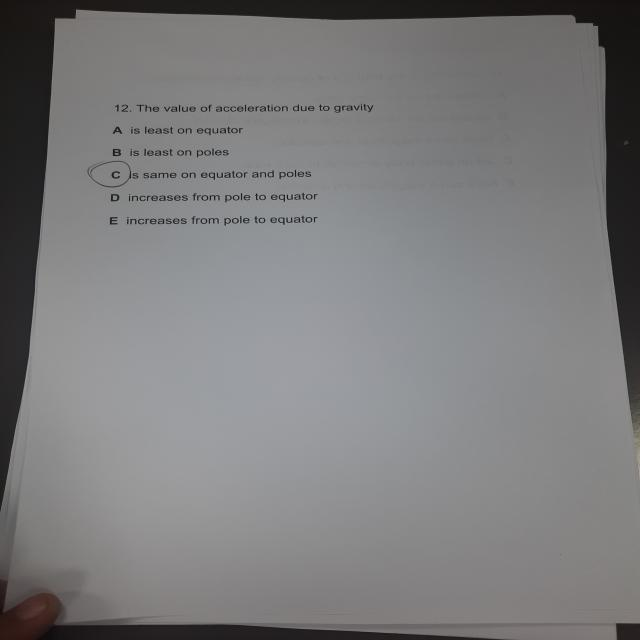C: (85, 160, 135, 190)
